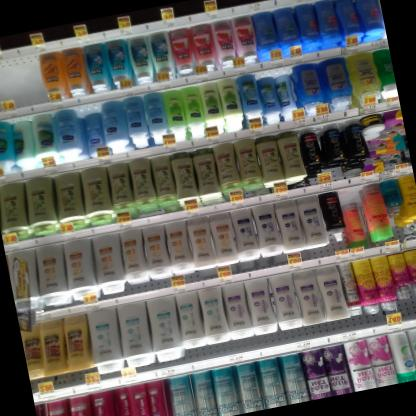empty_space: (0, 53, 47, 113), (339, 184, 363, 211)
